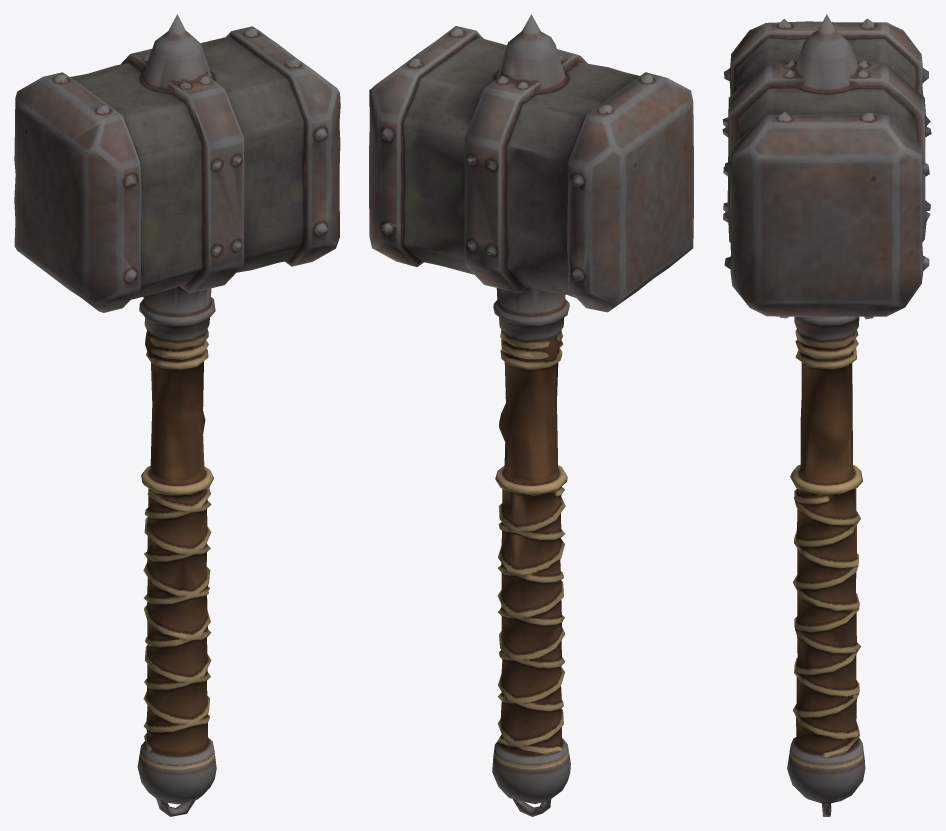
Rendered from weapon_ogre_hammer.glb.
3 views of the same model, side by side, from view 1: azimuth 30°, elevation 25°; view 2: azimuth 150°, elevation 25°; view 3: azimuth 270°, elevation 25° (orthographic).
Visible parts, largest first — view 1: weapon_ogre_hammer; view 2: weapon_ogre_hammer; view 3: weapon_ogre_hammer.
Boxes of the visible parts, left/top/right/bottom form: weapon_ogre_hammer: left=14, top=14, right=340, bottom=816; weapon_ogre_hammer: left=369, top=14, right=693, bottom=816; weapon_ogre_hammer: left=722, top=14, right=931, bottom=816.
Bounding box in the file's own units: 0.5794 × 1.69 × 0.4005.
Materials: 1 (1 with a texture image).
